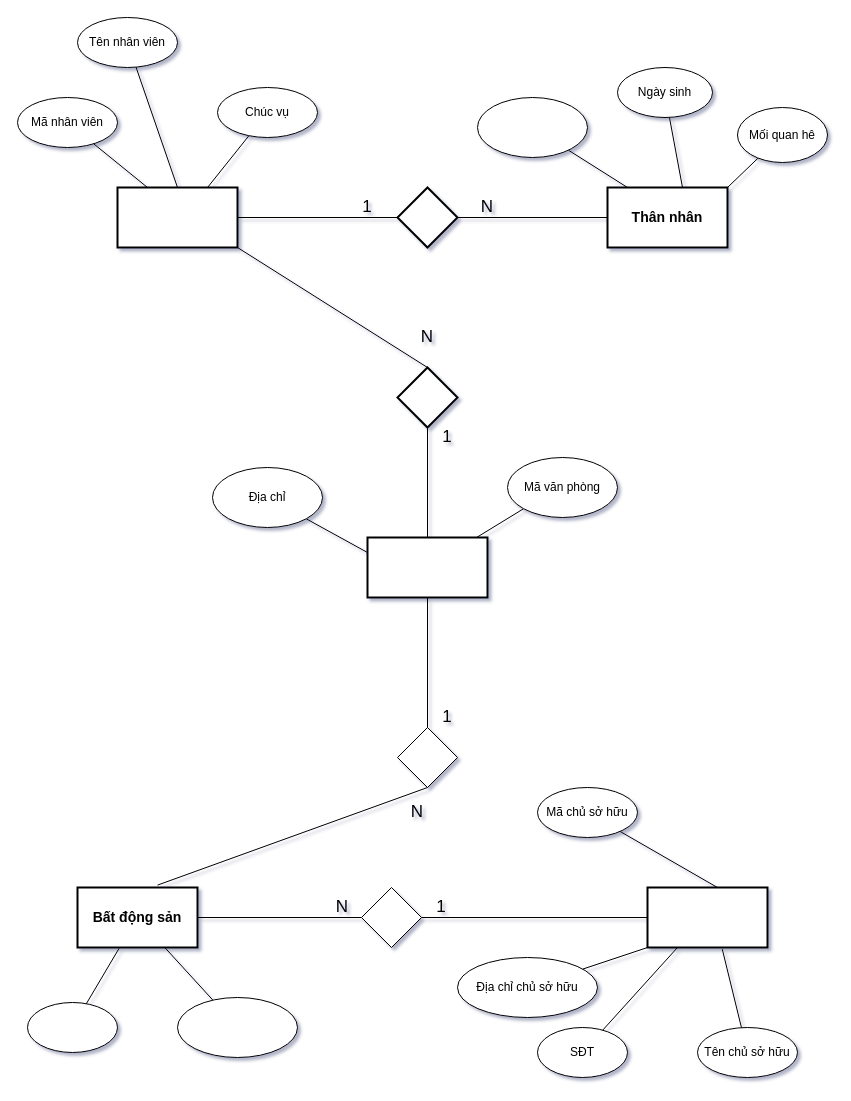
Image size: 851x1101. Some labels were removed from this diagram. Here are the shapes that lost their labels. From the top down, the centre of each, then its label:
the point at 532,127: Tên thân nhân
the point at 177,217: Nhân viên
the point at 427,567: Văn phòng
the point at 707,917: Chủ sở hữu
the point at 72,1027: Mã BĐS
the point at 237,1027: Địa chỉ BĐS
